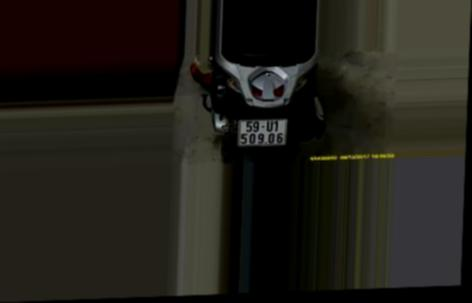License_Plate: (237, 116, 288, 148)
